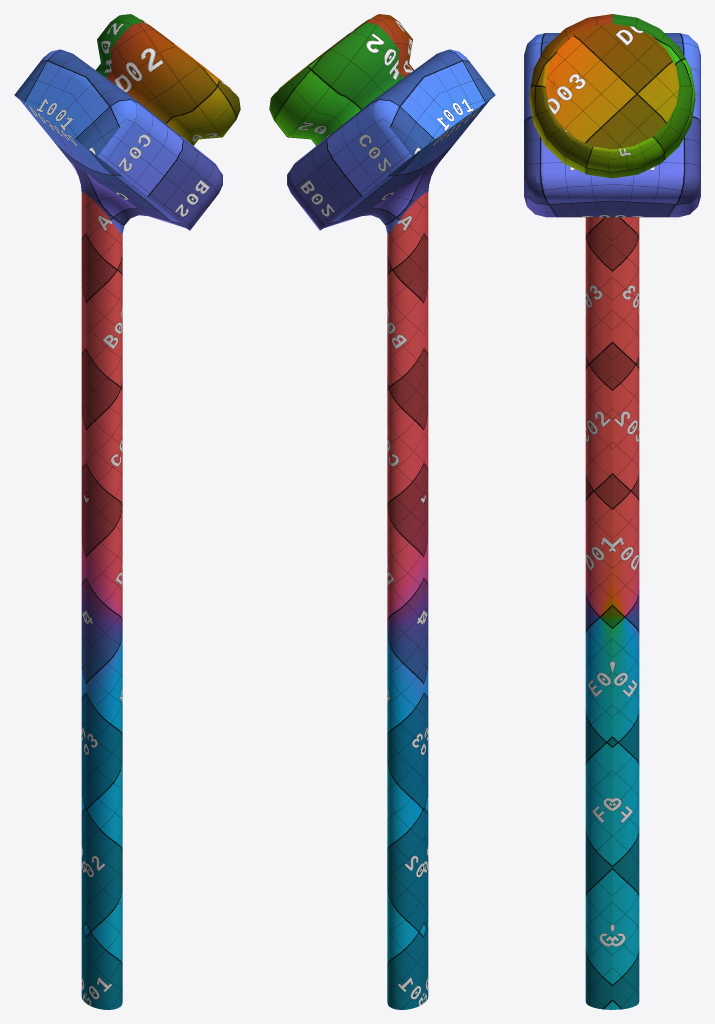
The picture shows the model from 3 angles, left to right: view 1: azimuth 30°, elevation 25°; view 2: azimuth 150°, elevation 25°; view 3: azimuth 270°, elevation 25°; orthographic projection. The views are drawn at different scales.
Parts seen in each view (by area): view 1: LBPillar_low, LightButton_low; view 2: LBPillar_low, LightButton_low; view 3: LBPillar_low, LightButton_low.
Boxes of the visible parts, <box> form: LBPillar_low: <box>14,49,222,1009</box>; LightButton_low: <box>96,14,240,145</box>; LBPillar_low: <box>287,49,495,1009</box>; LightButton_low: <box>269,14,413,145</box>; LBPillar_low: <box>524,33,700,1009</box>; LightButton_low: <box>529,14,695,178</box>.
Bounding box in the file's own units: 27.24 × 142 × 22.69.
